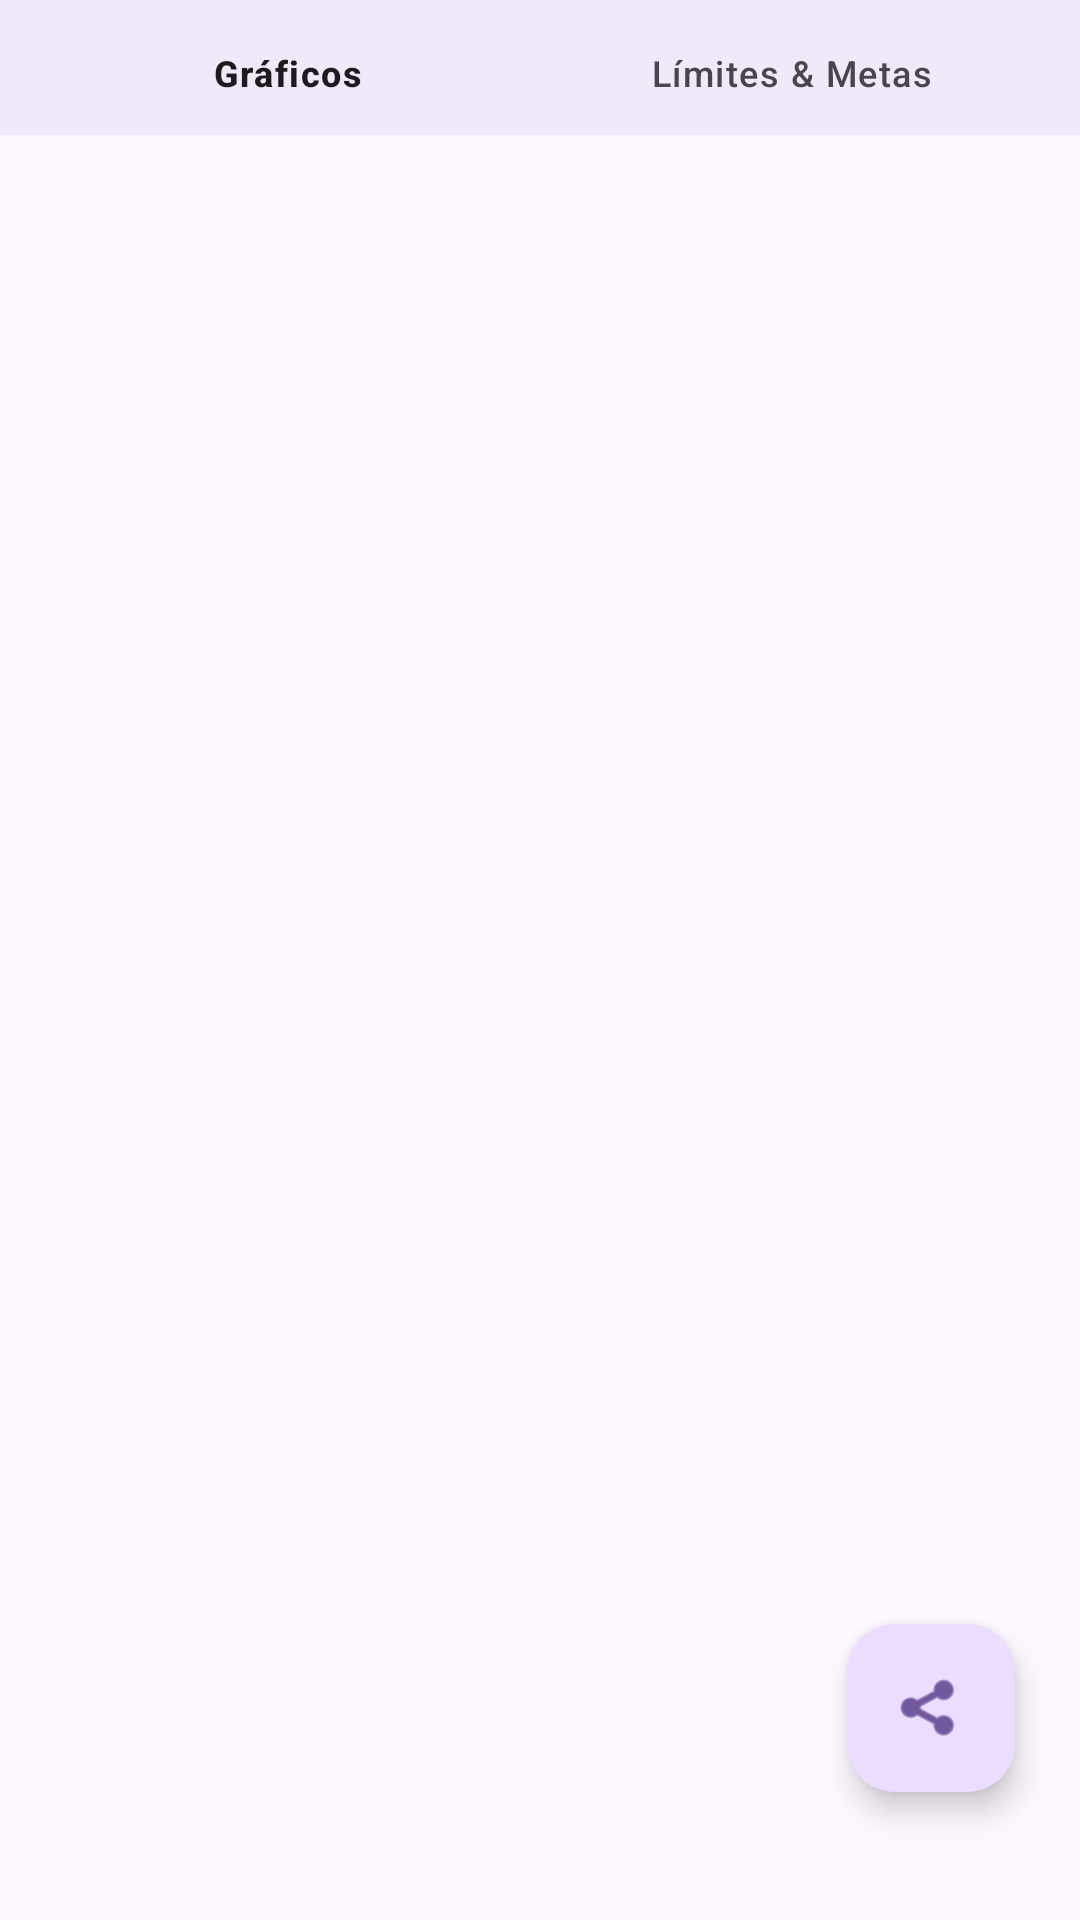

Where icons sit on this 1080px x 1920px app screen, as detection(x1, y1, x2, y2):
Shares the statistics: detection(847, 1624, 1015, 1792)
